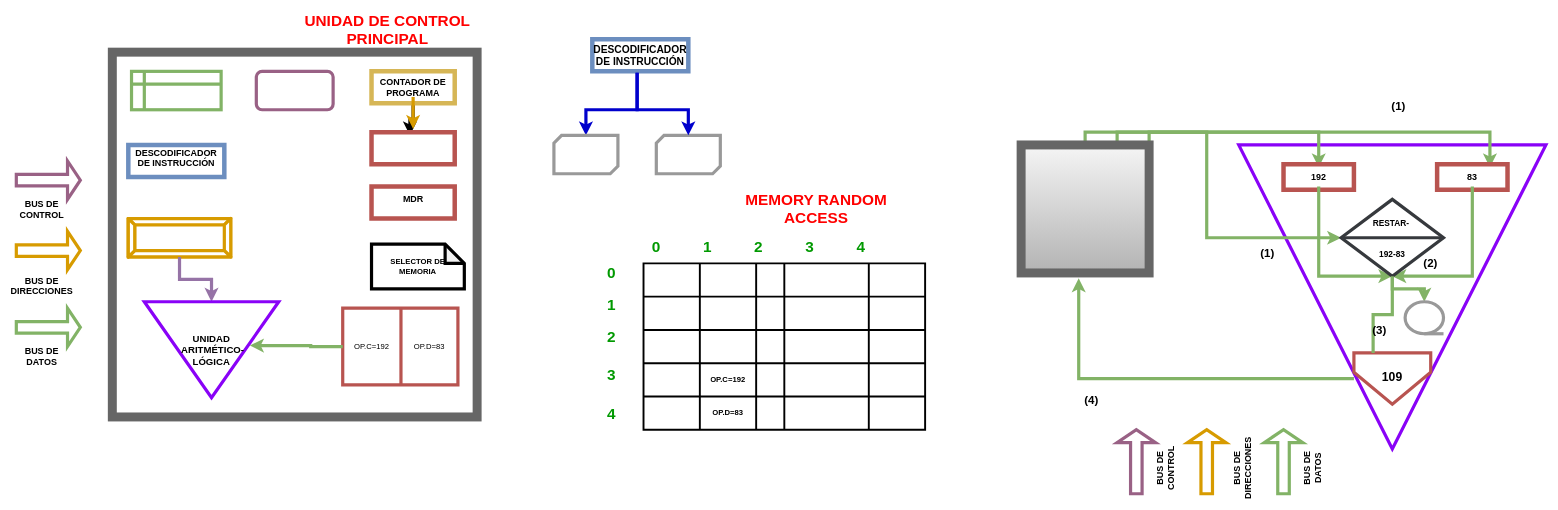
Image size: 1558x510. Some labels were removed from this diagram. Here are the shapes that lost their labels. From the top down, the centre of each, then its label:
At (176,90): "RELOJ".
At (294,90): "REGISTRO DE INSTRUCCIÓN".
At (413,148): "MAR".
At (1084,208): "CPU".
At (179,237): "RESTAR".
At (1424,317): "OK".
